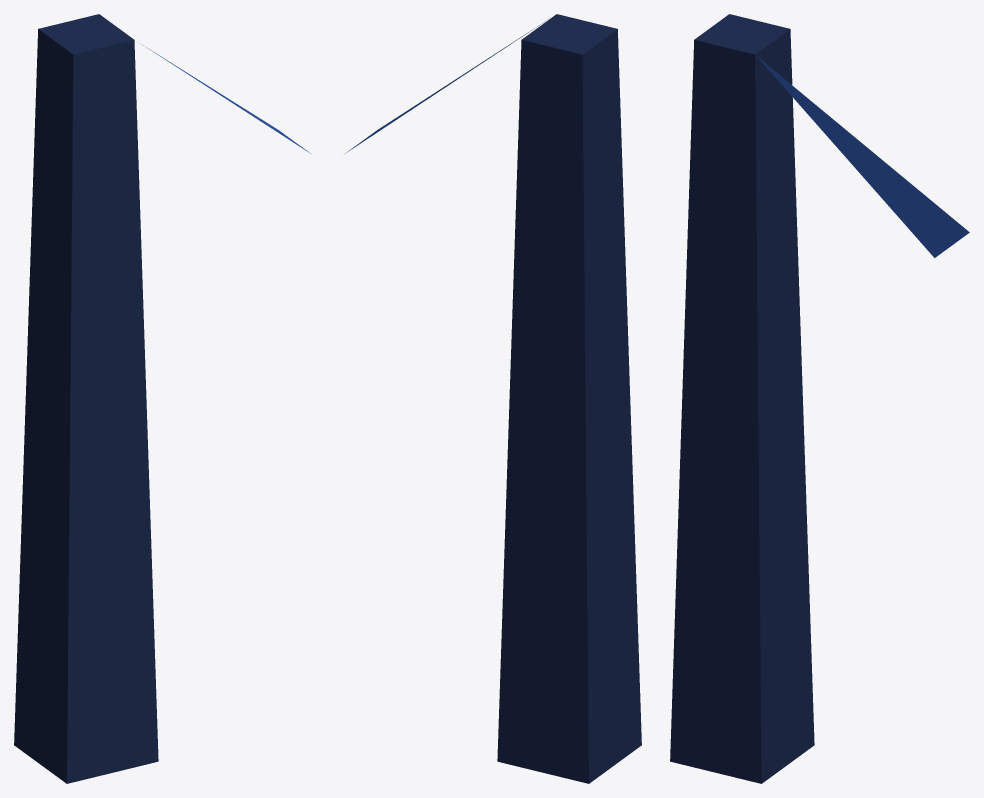
The model's file is borderpost_viking.obj.
3 renders of one model, left to right at view 1: azimuth 30°, elevation 25°; view 2: azimuth 150°, elevation 25°; view 3: azimuth 330°, elevation 25°, orthographic.
Parts seen in each view (by area): view 1: borderpost; view 2: borderpost; view 3: borderpost.
Boxes of the visible parts, x1,y1,x2,y2 form: borderpost: (14, 14, 310, 783); borderpost: (345, 14, 641, 783); borderpost: (670, 14, 969, 783).
Size of the model in its own units: 0.67 by 1.8 by 0.24.
